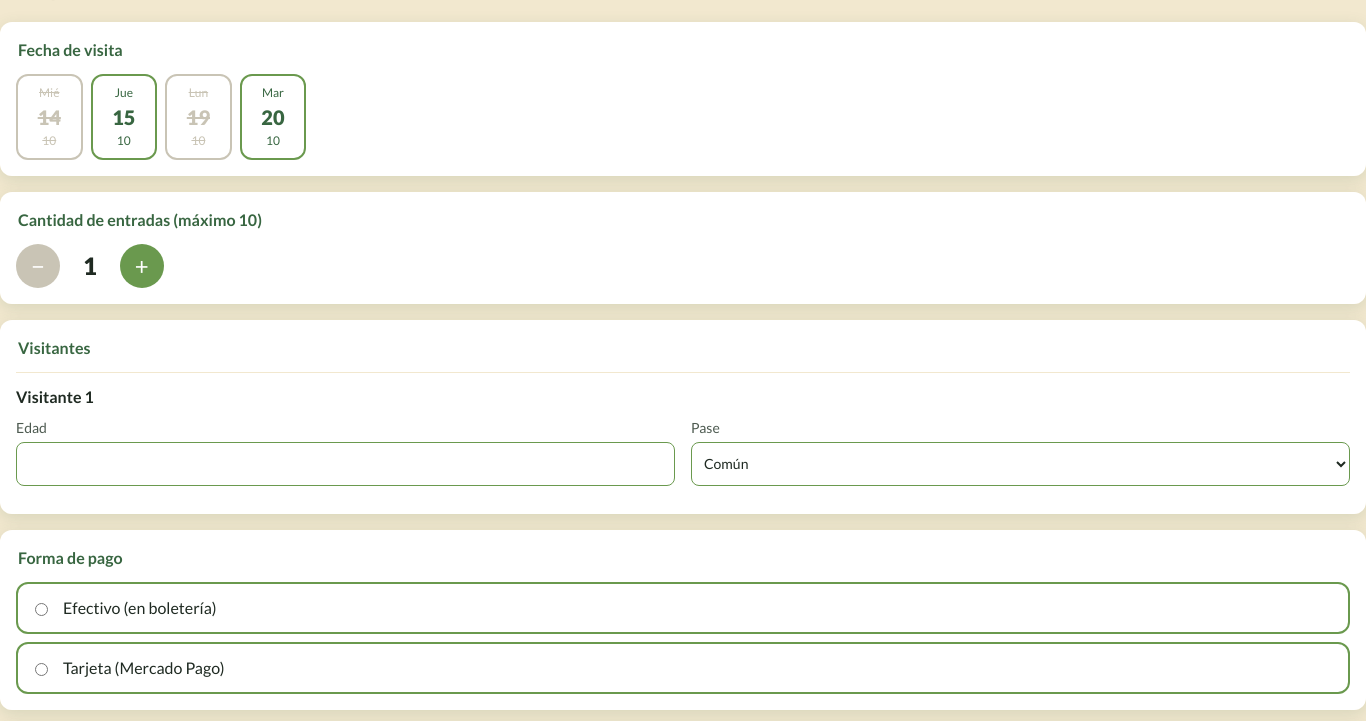
Test: Formulario de compra de entradas › precio individual de cada entrada › al quitar una entrada el total se actualiza
Step 1. Click the button named "Agregar una entrada" → (142, 266), box [120, 244, 164, 288]
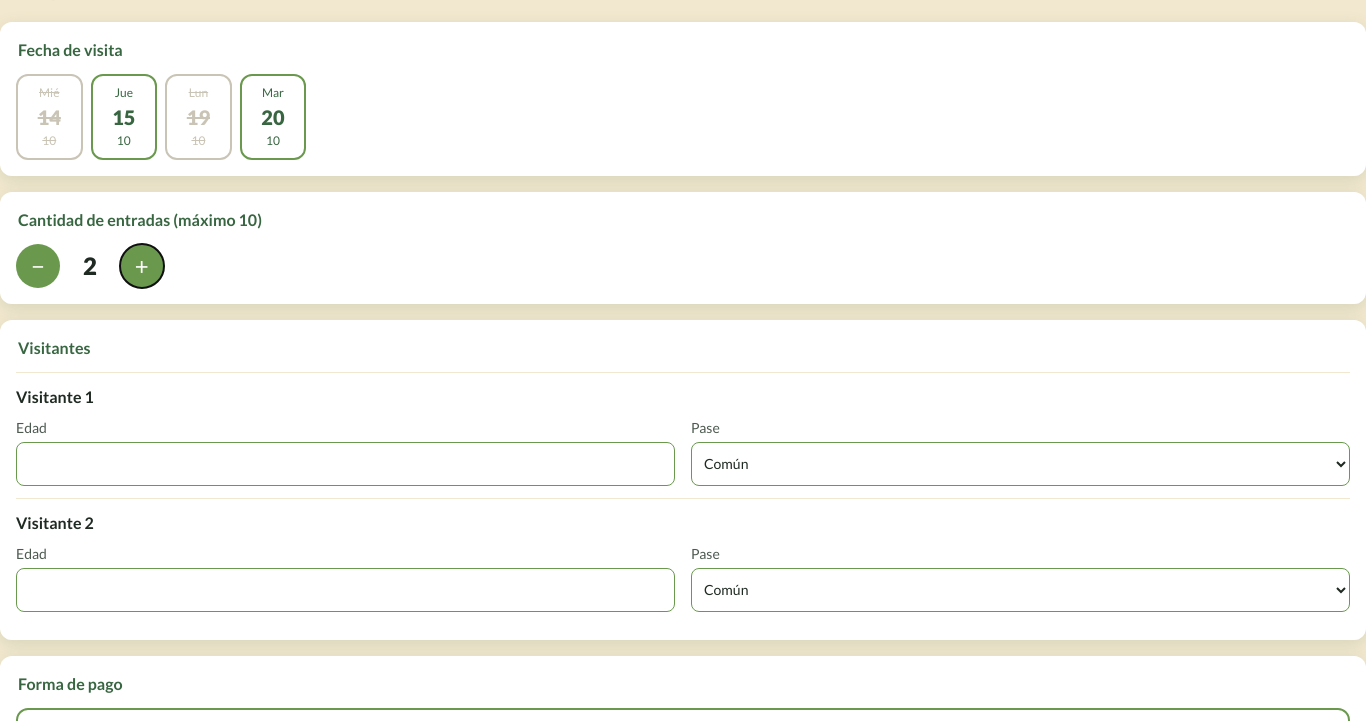
Step 2. Type "30" into the number field named "Edad del visitante 1" → (346, 464), box [16, 442, 675, 486]
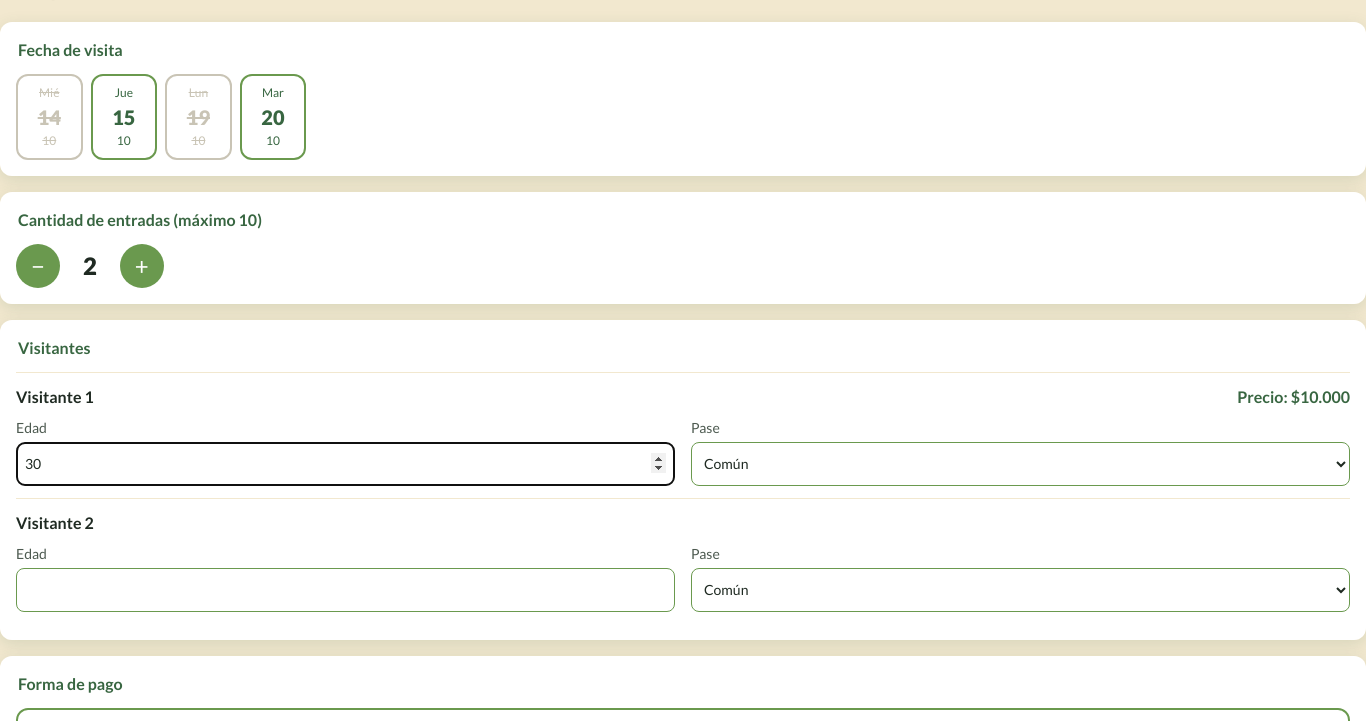
Step 3. Select "Común" in the dropdown labelled "Pase" below "Precio:" → (1020, 464), box [691, 442, 1350, 486]
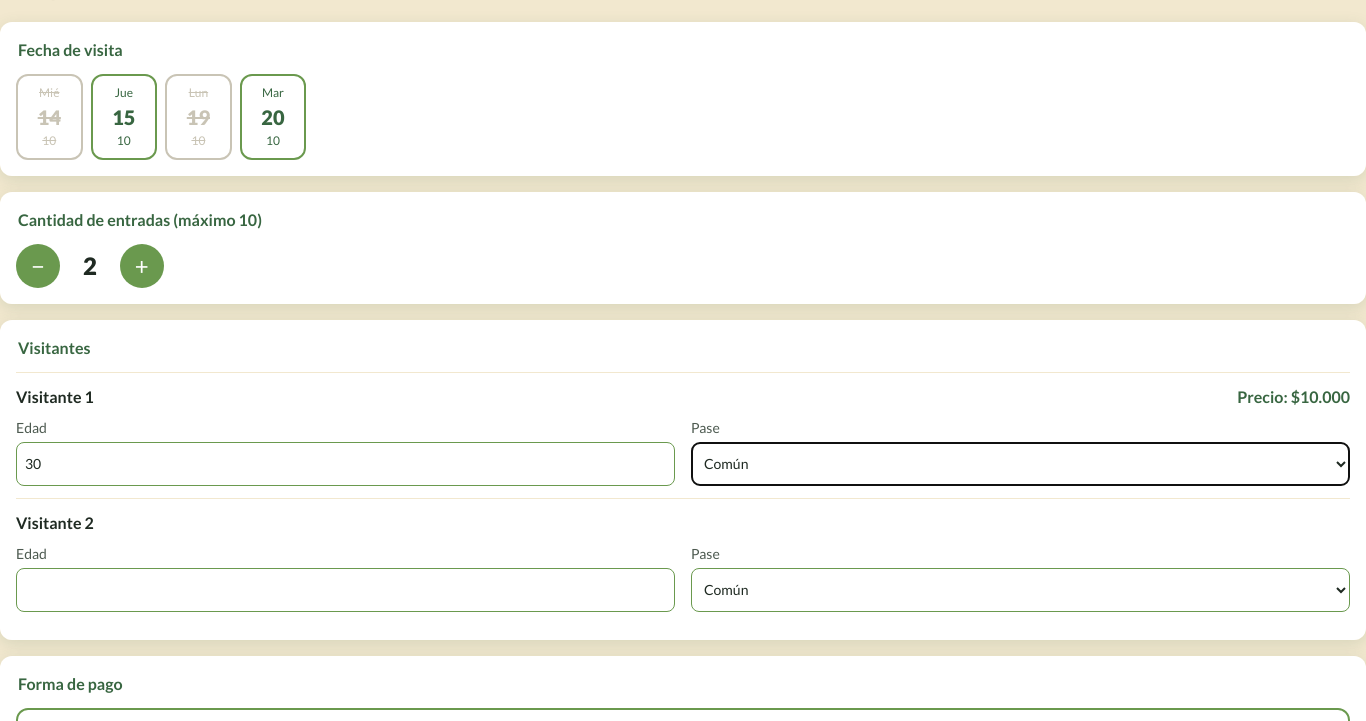
Step 4. Type "35" into the number field named "Edad del visitante 2" → (346, 590), box [16, 568, 675, 612]
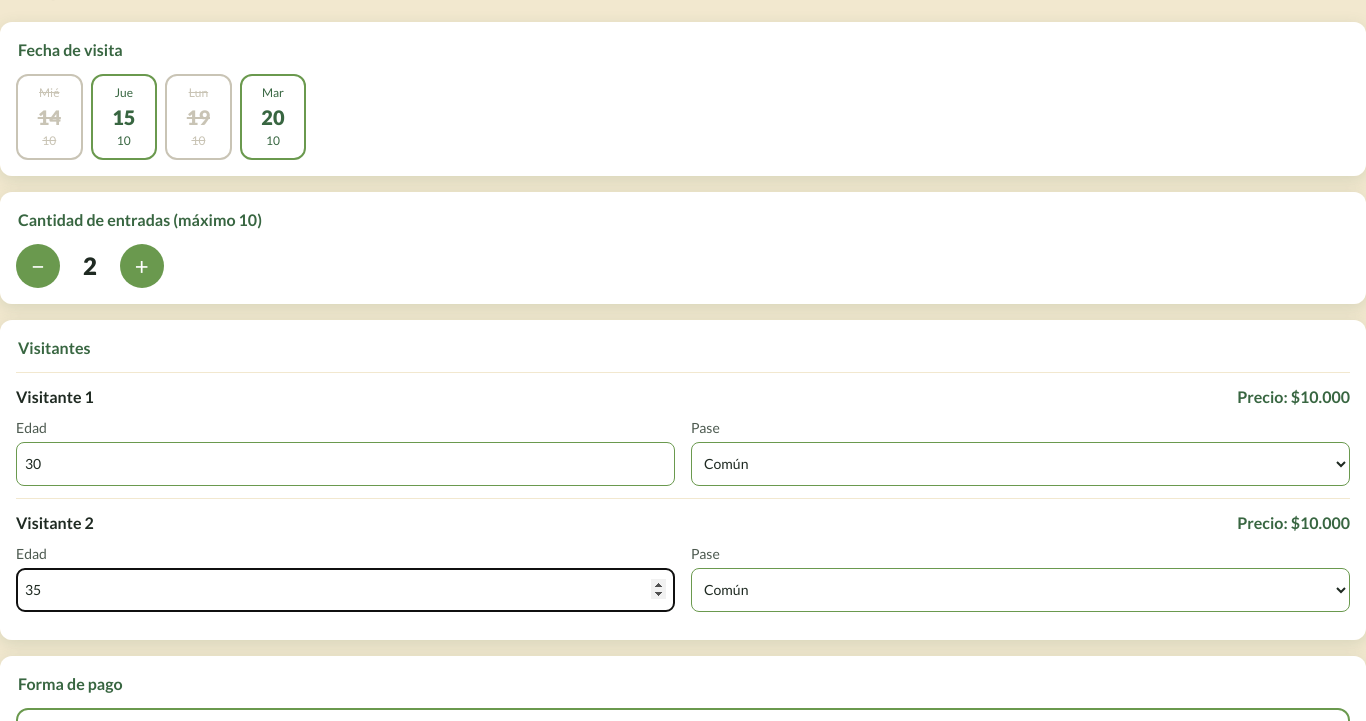
Step 5. Select "VIP" in the dropdown named "Pase del visitante 2" → (1020, 590), box [691, 568, 1350, 612]
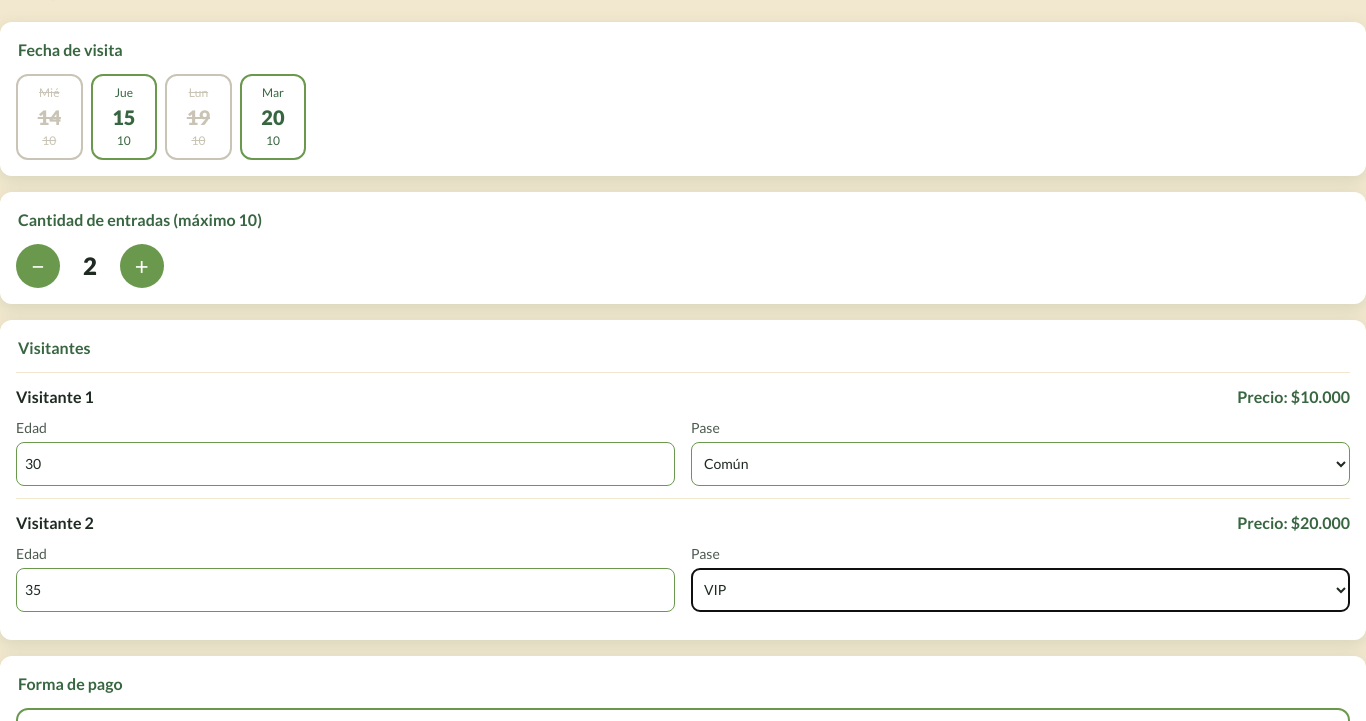
Step 6. Click the button named "Quitar una entrada" → (38, 266), box [16, 244, 60, 288]
(page scrolled)
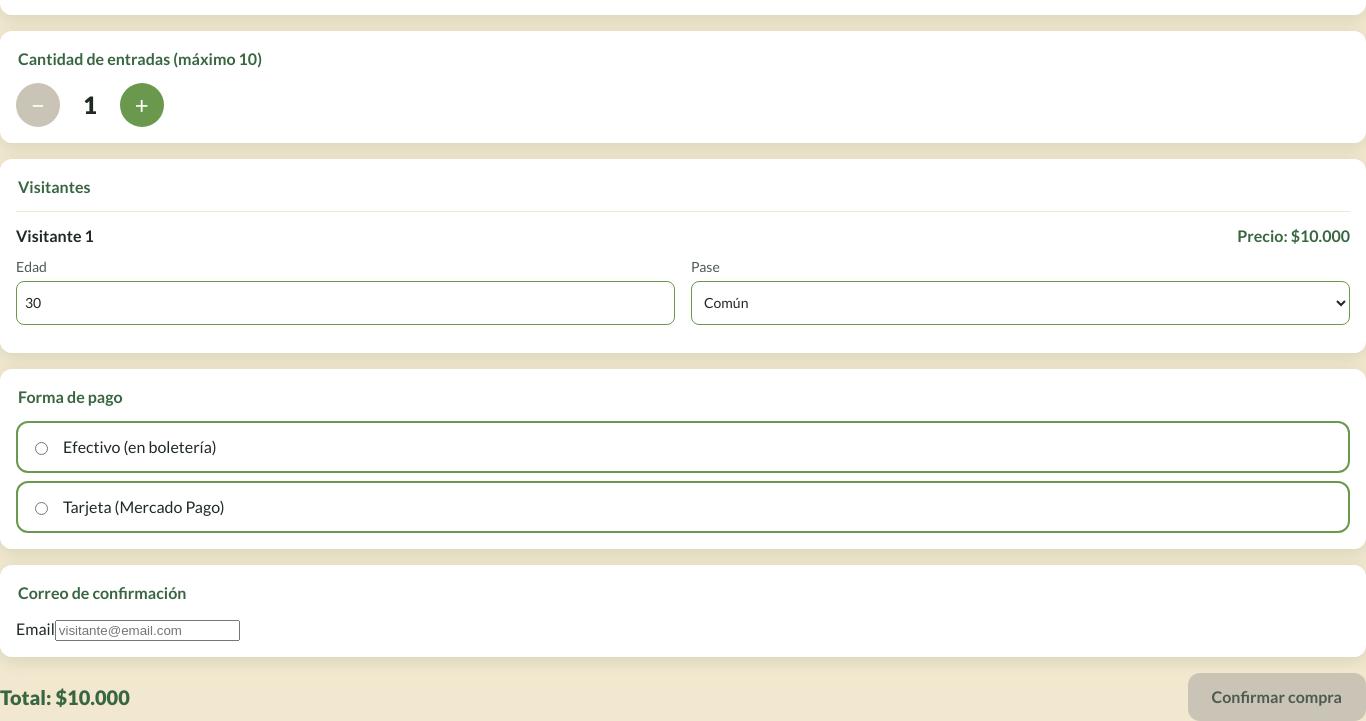
expect the text "Total: $10.000" is shown: met, box [0, 682, 130, 712]
